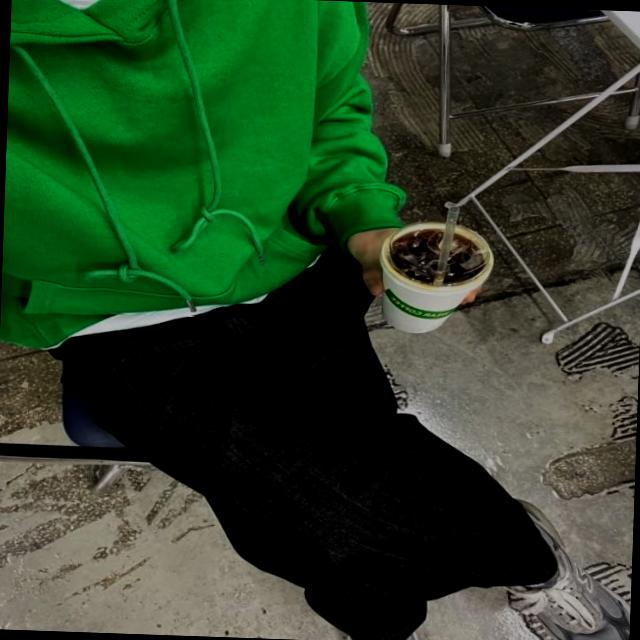hoodies: (0, 0, 410, 362)
